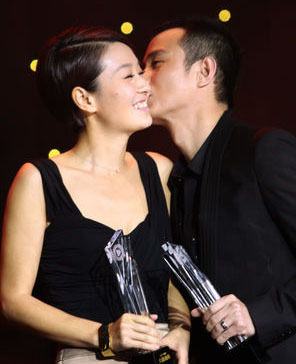face: (97, 40, 151, 127), (142, 33, 196, 120), (140, 31, 194, 118)
